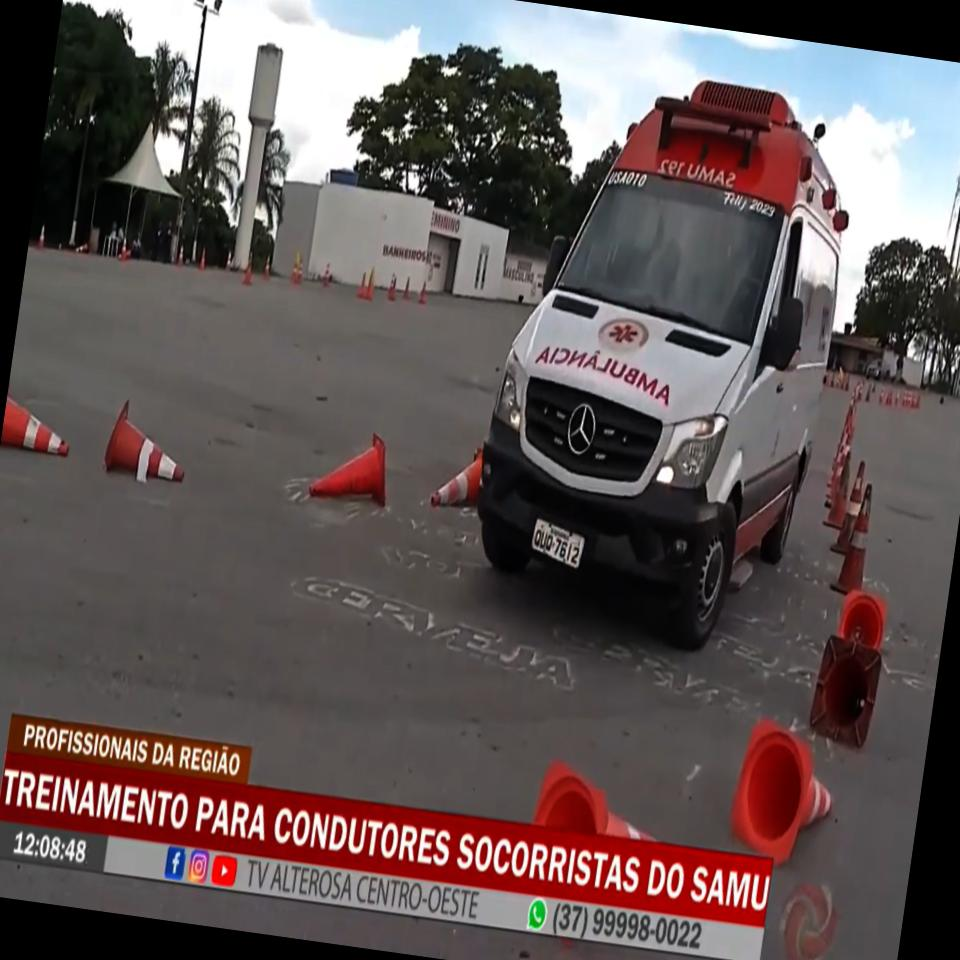bombeiro: (462, 54, 869, 666)
